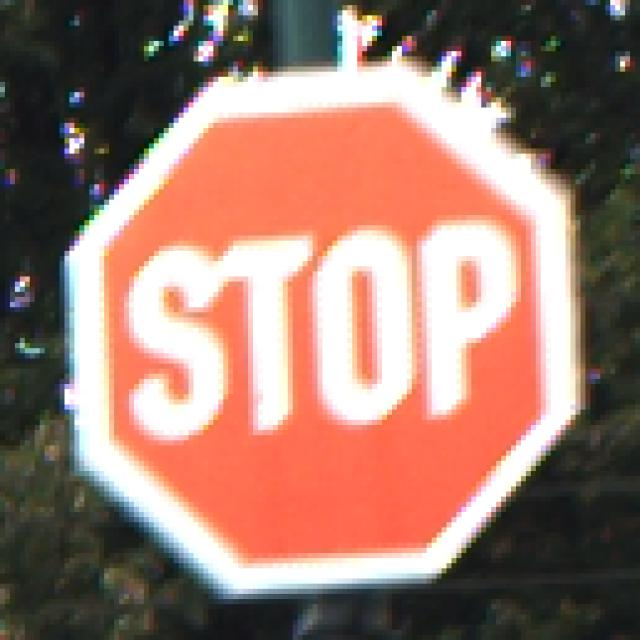STOP: (56, 57, 587, 585)
